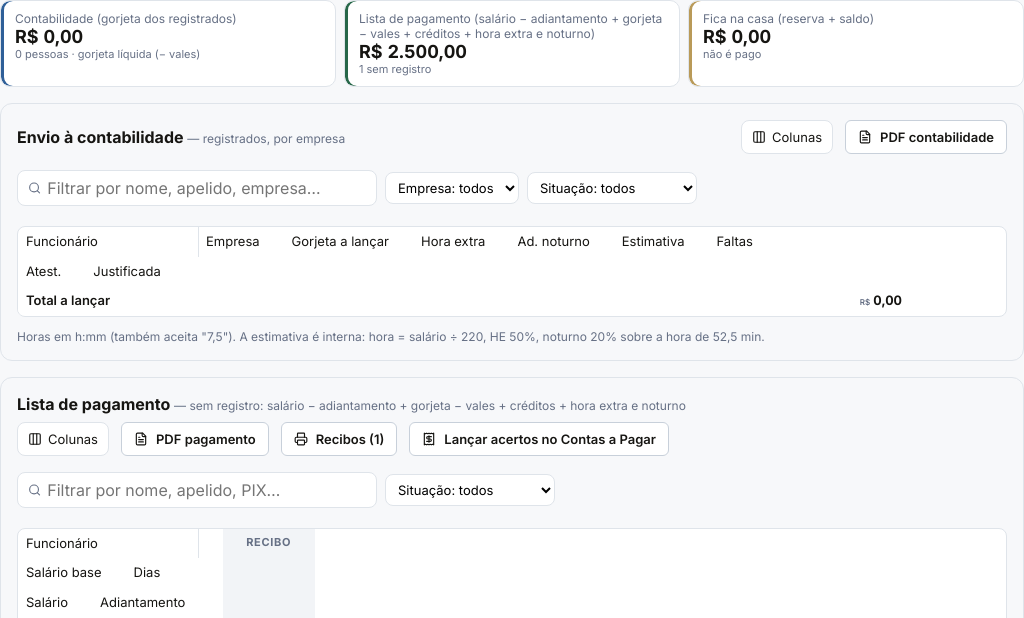
Scenario: lançar os acertos da lista no Contas a Pagar › lança e mostra o que criou, atualizou e os avisos
The image size is (1024, 618).
Click the button "Lançar acertos no Contas a Pagar": click(539, 439) [409,422,669,456]
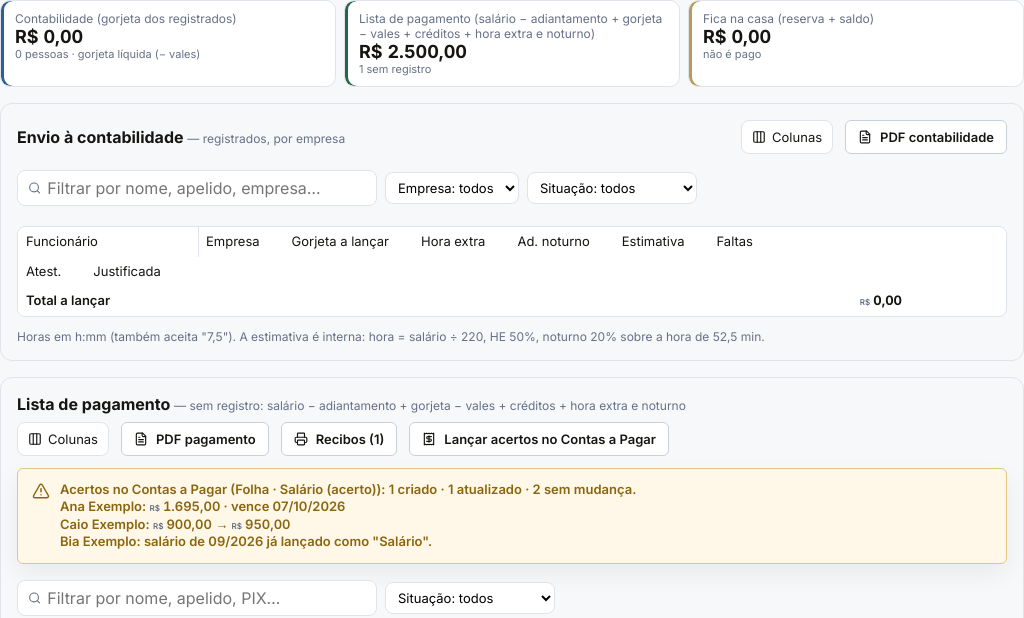
expect the message shows "Bia Exemplo: salário de 09/2026 já lançado": met, box [60,533,432,549]
